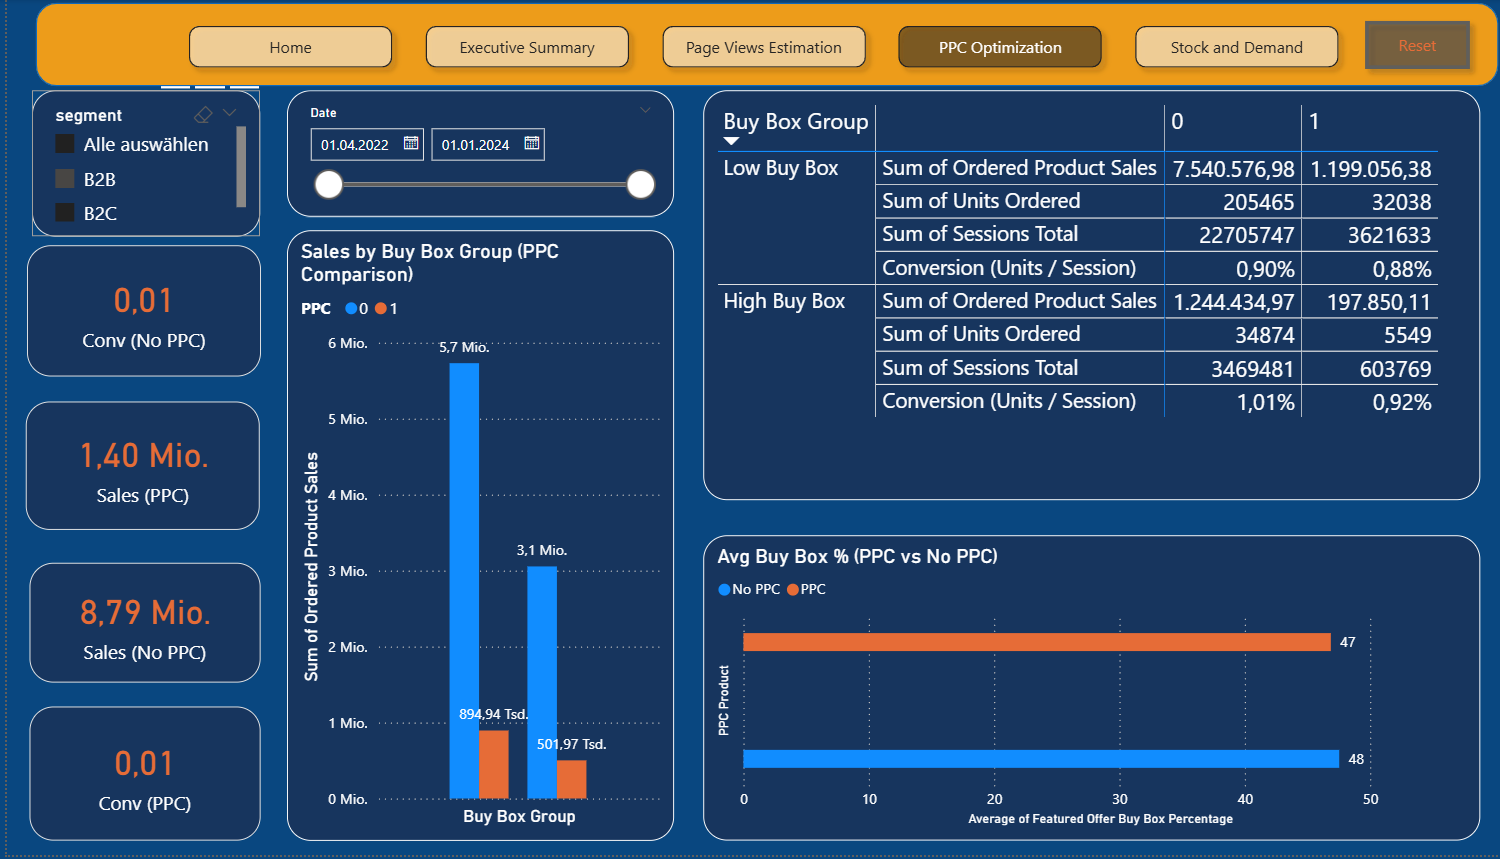

This screenshot's page, from the dashboard's own definition file:
{"tool":"powerbi","page":{"name":"PPC Optimization","canvas":[1280,720],"ordinal":4},"visuals":[{"type":"slicer","fields":{"Values":["DimDate.Date"]},"box":[235.8,76.8,325.5,106.4],"z":0},{"type":"card","fields":{"Values":["Segment KPI’ları (PPC / Buy Box grupları).Sales (PPC)"]},"box":[15.7,338.5,197,108.2],"z":1000},{"type":"card","fields":{"Values":["Segment KPI’ları (PPC / Buy Box grupları).Sales (No PPC)"]},"box":[18.5,474.5,194.2,100.8],"z":2000},{"type":"pivotTable","fields":{"Values":["Sum(Append2.ordered_product_sales)","Sum(Append2.units_ordered)","Sum(Append2.sessions_total)","Append2.APPEND2Conversion (Units / Session)"],"Rows":["Append2.buy_box_group"],"Columns":["Append2.ppc_product"]},"box":[585.6,76.8,654,344.9],"z":3000},{"type":"slicer","fields":{"Values":["Append2.segment"]},"box":[21.5,77.2,192.1,123],"z":4000},{"type":"card","fields":{"Values":["Segment KPI’ları (PPC / Buy Box grupları).Conv (No PPC)2"]},"box":[16.6,207.2,197,110.1],"z":5000},{"type":"card","fields":{"Values":["Segment KPI’ları (PPC / Buy Box grupları).Conv (PPC)2"]},"box":[18.5,594.7,194.2,112.8],"z":6000},{"type":"clusteredBarChart","title":"Avg Buy Box % (PPC vs No PPC)","fields":{"Category":["Append2.ppc_product"],"Series":["Append2.ppc_label2"],"Y":["Avg(Append2.featured_offer_buy_box_percentage)"]},"box":[585.6,451.1,654,256.5],"z":7000},{"type":"clusteredColumnChart","title":"Sales by Buy Box Group (PPC Comparison)","fields":{"Category":["final_fact.buy_box_group"],"Y":["Sum(final_fact.ordered_product_sales)"],"Series":["final_fact.ppc_product"]},"box":[235.8,194.2,325.5,513.3],"z":8000},{"type":"shape","box":[24,3.6,1230.2,70.2],"z":9000},{"type":"pageNavigator","box":[144.5,13.5,989.3,53.9],"z":10000},{"type":"actionButton","box":[1133.9,9,105.9,58.4],"z":12000}]}

Visuals, with their boxes in screenshot pixels (x1, y1, x2, y2), scaled from the page's 1280x720 canvas onto the 1500x859 screenshot:
slicer - DimDate.Date: 276, 92, 658, 219
card - Segment KPI’ları (PPC / Buy Box grupları).Sales (PPC): 18, 404, 249, 533
card - Segment KPI’ları (PPC / Buy Box grupları).Sales (No PPC): 22, 566, 249, 686
pivotTable - Sum(Append2.ordered_product_sales) x Sum(Append2.units_ordered): 686, 92, 1453, 503
slicer - Append2.segment: 25, 92, 250, 239
card - Segment KPI’ları (PPC / Buy Box grupları).Conv (No PPC)2: 19, 247, 250, 379
card - Segment KPI’ları (PPC / Buy Box grupları).Conv (PPC)2: 22, 710, 249, 844
"Avg Buy Box % (PPC vs No PPC)" clusteredBarChart: 686, 538, 1453, 844
"Sales by Buy Box Group (PPC Comparison)" clusteredColumnChart: 276, 232, 658, 844
shape: 28, 4, 1470, 88
pageNavigator: 169, 16, 1329, 80
actionButton: 1329, 11, 1453, 80
